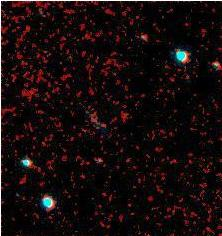star: (89, 111, 119, 141)
